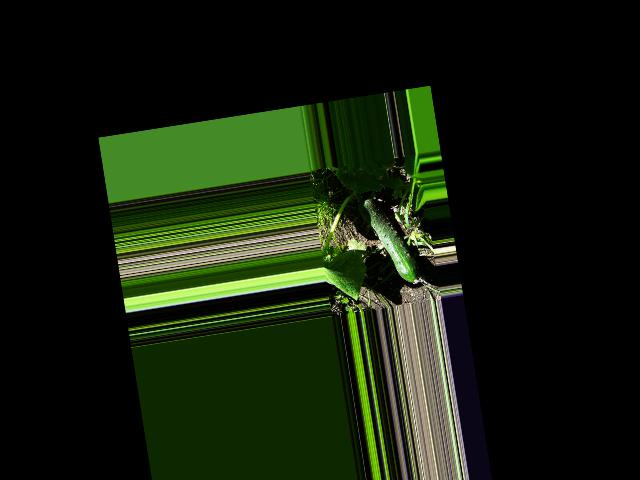cucumber: (356, 190, 421, 290)
